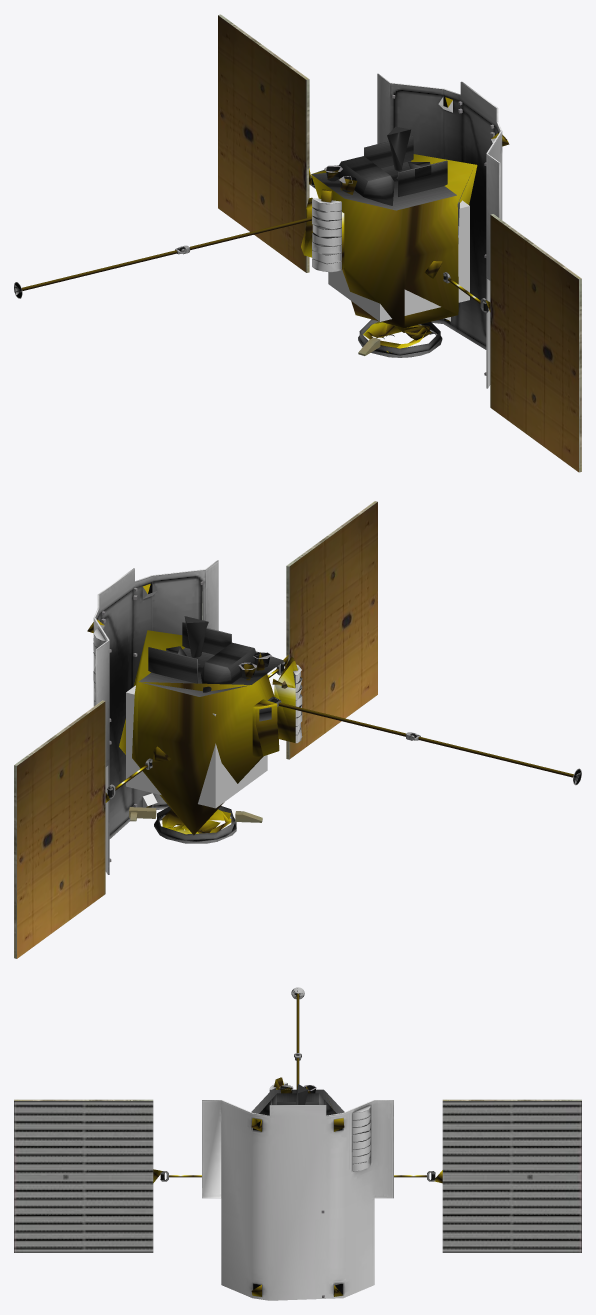
The model's file is messenger.glb.
3 views of the same model, one above another, from view 1: azimuth 30°, elevation 25°; view 2: azimuth 150°, elevation 25°; view 3: azimuth 270°, elevation 25° (orthographic). The views are drawn at different scales.
Parts seen in each view (by area): view 1: Tex_01, Foil_gold, AO_heatshield, Foil_silver, _root, AO_other, AO_other2, Tex_darkgrey; view 2: Tex_01, Foil_gold, AO_heatshield, Foil_silver, _root, AO_other2, AO_other, Tex_darkgrey; view 3: Tex_01, AO_heatshield, AO_other, Foil_gold, Foil_silver.
Boxes of the visible parts, <box> form: Tex_01: <box>218,14,581,472</box>; Foil_gold: <box>22,97,509,352</box>; AO_heatshield: <box>377,73,502,388</box>; Foil_silver: <box>311,135,456,210</box>; _root: <box>328,200,469,321</box>; AO_other: <box>14,198,341,298</box>; AO_other2: <box>175,175,488,357</box>; Tex_darkgrey: <box>17,126,411,292</box>; Tex_01: <box>14,501,377,958</box>; Foil_gold: <box>87,584,573,835</box>; AO_heatshield: <box>93,560,218,874</box>; Foil_silver: <box>139,622,284,721</box>; _root: <box>126,685,267,808</box>; AO_other2: <box>107,661,420,843</box>; AO_other: <box>93,628,581,785</box>; Tex_darkgrey: <box>184,616,577,779</box>; Tex_01: <box>14,1099,581,1252</box>; AO_heatshield: <box>202,1100,393,1300</box>; AO_other: <box>269,987,370,1171</box>; Foil_gold: <box>153,993,442,1296</box>; Foil_silver: <box>251,1089,344,1115</box>.
Bounding box in the file's own units: 5.17 × 2.64 × 6.96.
10 materials, 9 textured.
